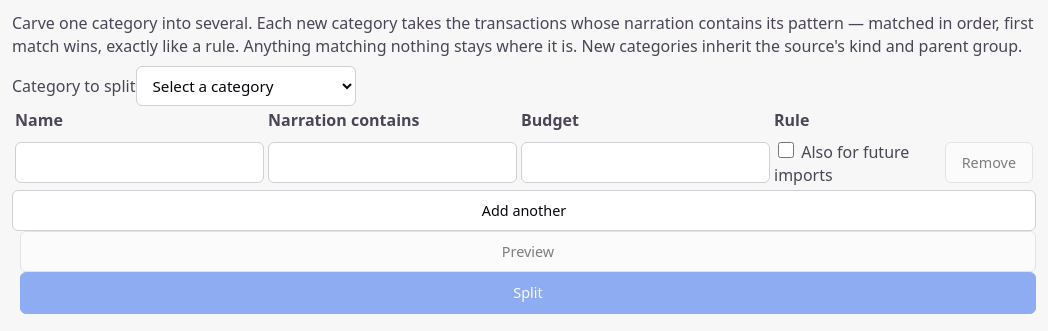
it: CategorySplitter › cannot preview or split until a source and a complete part are given
Expected: the button "Preview" is disabled, top-left (20, 231), bottom-right (1036, 272)
Expected: the button "Split" is disabled, top-left (20, 272), bottom-right (1036, 314)
Step 1. Select "Groceries" in the dropdown labelled "Category to split" → {"x": 246, "y": 86}, box top-left (136, 66), bottom-right (356, 106)
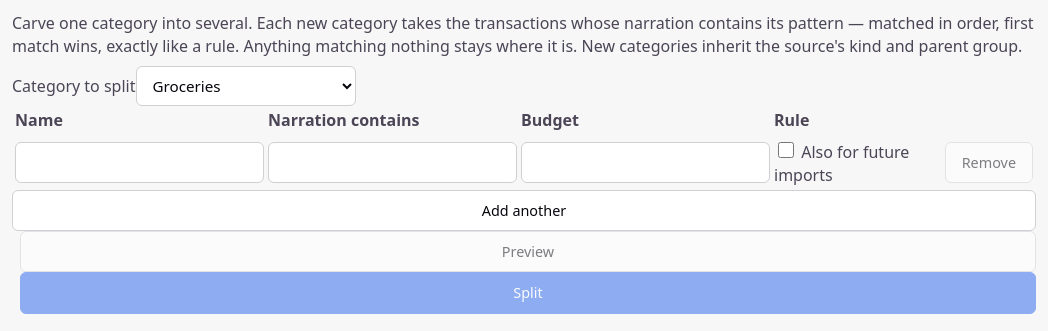
Step 2. Type "Alcohol" into the field named "Name for new category 1" → {"x": 140, "y": 163}, box top-left (15, 142), bottom-right (264, 183)
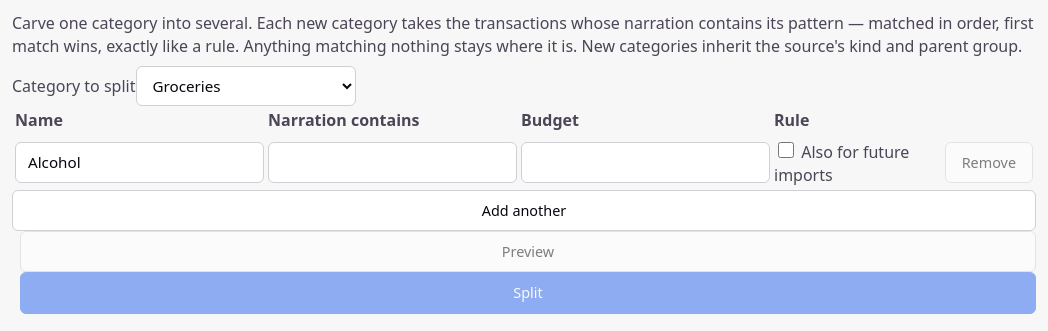
Step 3. Type "bws" into the field named "Narration pattern for new category 1" → {"x": 392, "y": 163}, box top-left (268, 142), bottom-right (517, 183)
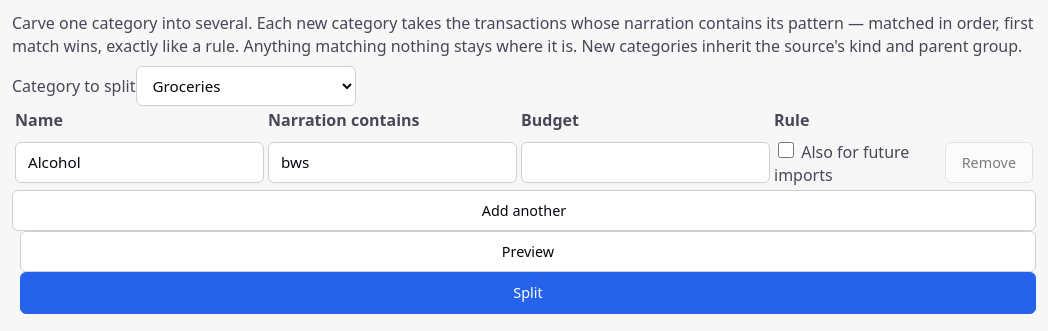
Now the button "Preview" is enabled, box top-left (20, 231), bottom-right (1036, 272)
Now the button "Split" is enabled, box top-left (20, 272), bottom-right (1036, 314)
